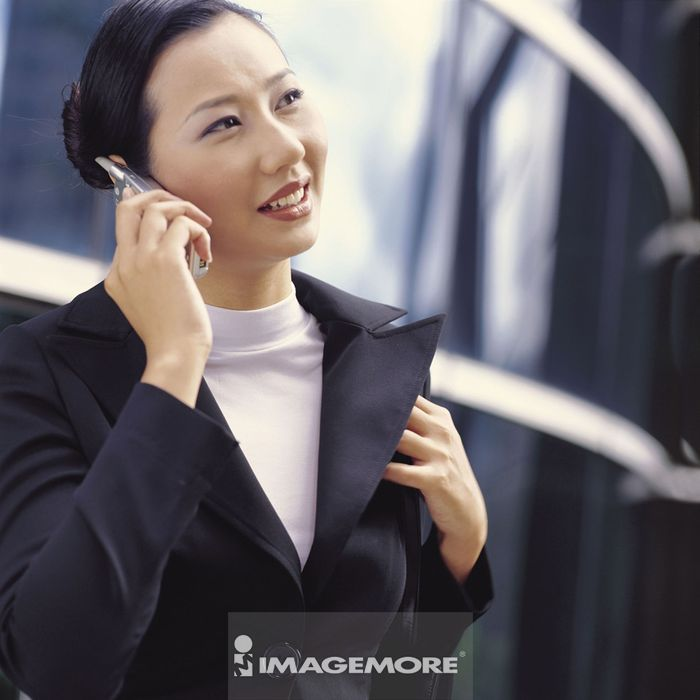talk: (98, 60, 329, 391)
